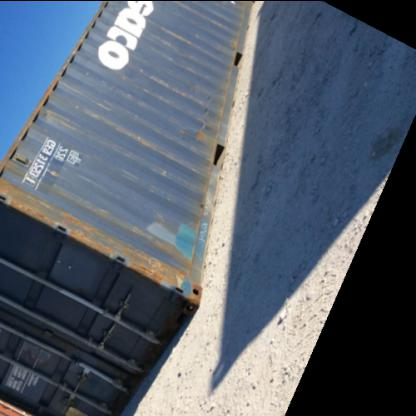Damage: (3, 176, 186, 288), (79, 103, 163, 156), (156, 23, 206, 57), (144, 68, 196, 100), (196, 92, 222, 152), (40, 104, 78, 134), (53, 78, 90, 96)
